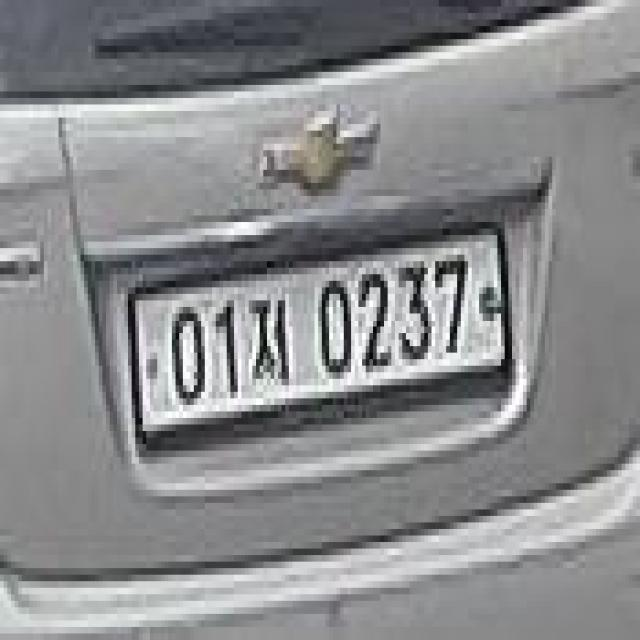illegal_plate: (123, 219, 518, 449)
